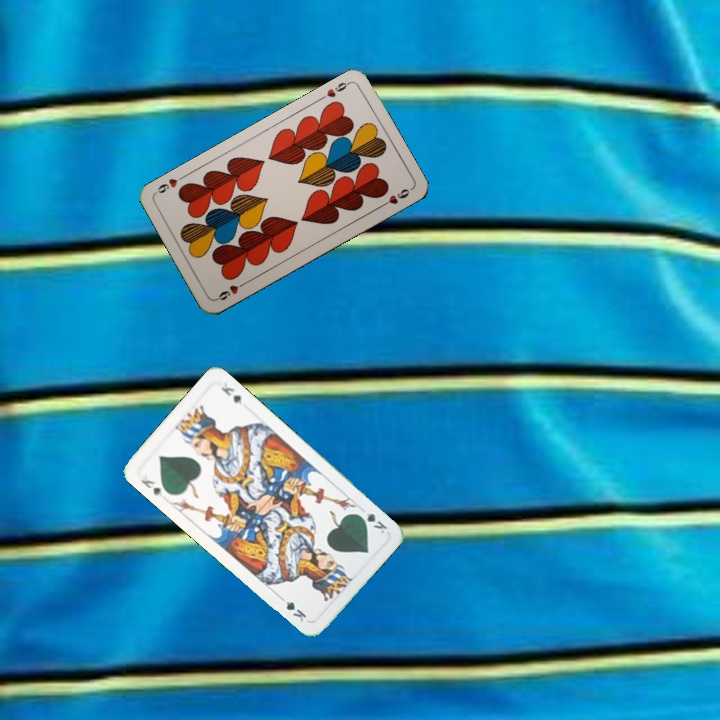GK: (353, 507, 390, 536), (137, 475, 166, 500)
H9: (316, 77, 353, 103), (212, 278, 249, 303)
